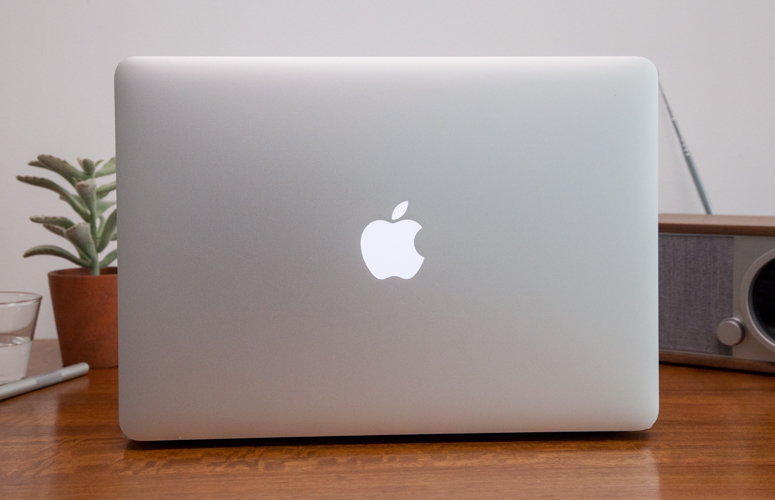apple: (355, 189, 446, 281)
